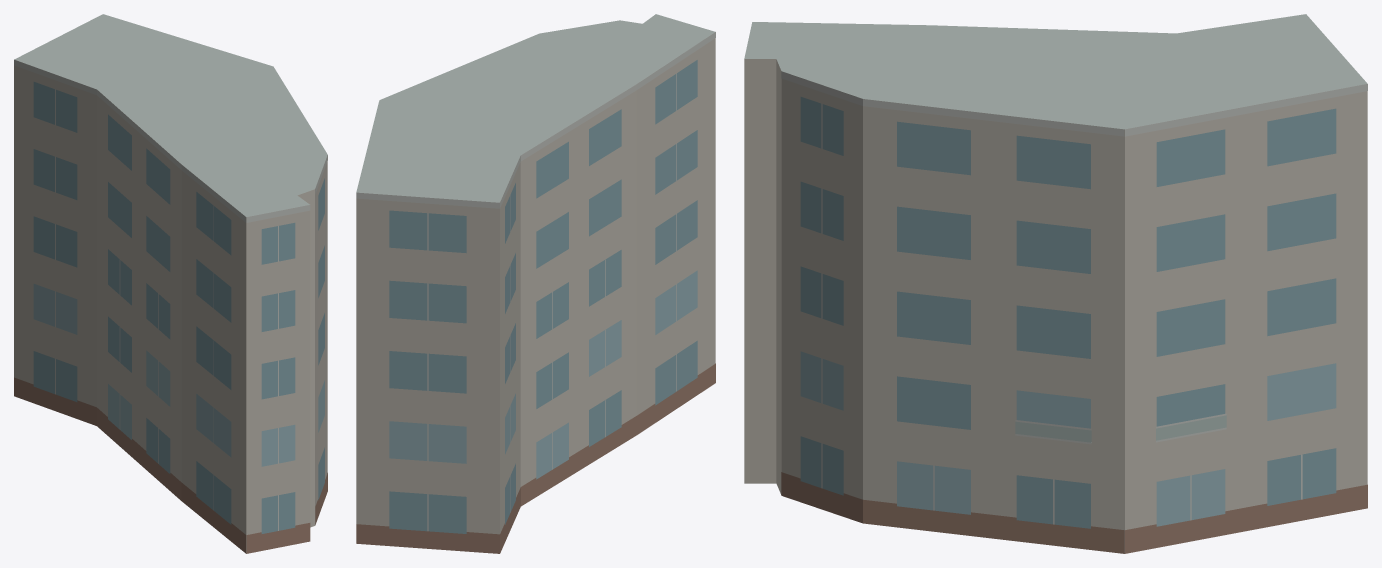
The model's file is survey-upis-32783401.glb.
3 views of the same model, side by side, from view 1: azimuth 30°, elevation 25°; view 2: azimuth 150°, elevation 25°; view 3: azimuth 270°, elevation 25° (orthographic). The views are drawn at different scales.
Parts seen in each view (by area): view 1: survey-upis-32783401.tmp; view 2: survey-upis-32783401.tmp; view 3: survey-upis-32783401.tmp.
Part boxes in pixels (x1,y1,x2,y2): survey-upis-32783401.tmp: (14, 14, 327, 553); survey-upis-32783401.tmp: (356, 14, 715, 553); survey-upis-32783401.tmp: (744, 14, 1367, 553).
Size of the model in its own units: 8.29 by 14.2 by 18.92.
